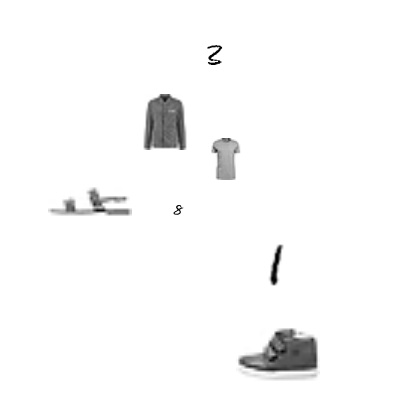1: (247, 237, 303, 293)
3: (200, 41, 228, 69)
8: (171, 203, 185, 217)
Coat: (136, 94, 192, 150)
Sandal: (48, 158, 132, 242)
Sneaker: (236, 311, 320, 395)
T-shirt/top: (204, 138, 246, 180)
